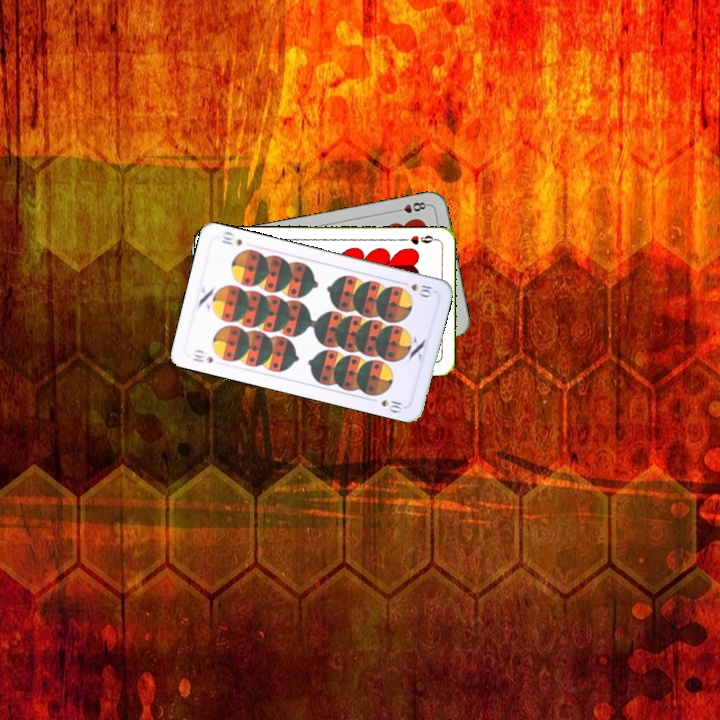H8: (391, 198, 431, 216)
H9: (398, 232, 439, 247)
S10: (397, 278, 437, 299), (189, 346, 215, 366)
